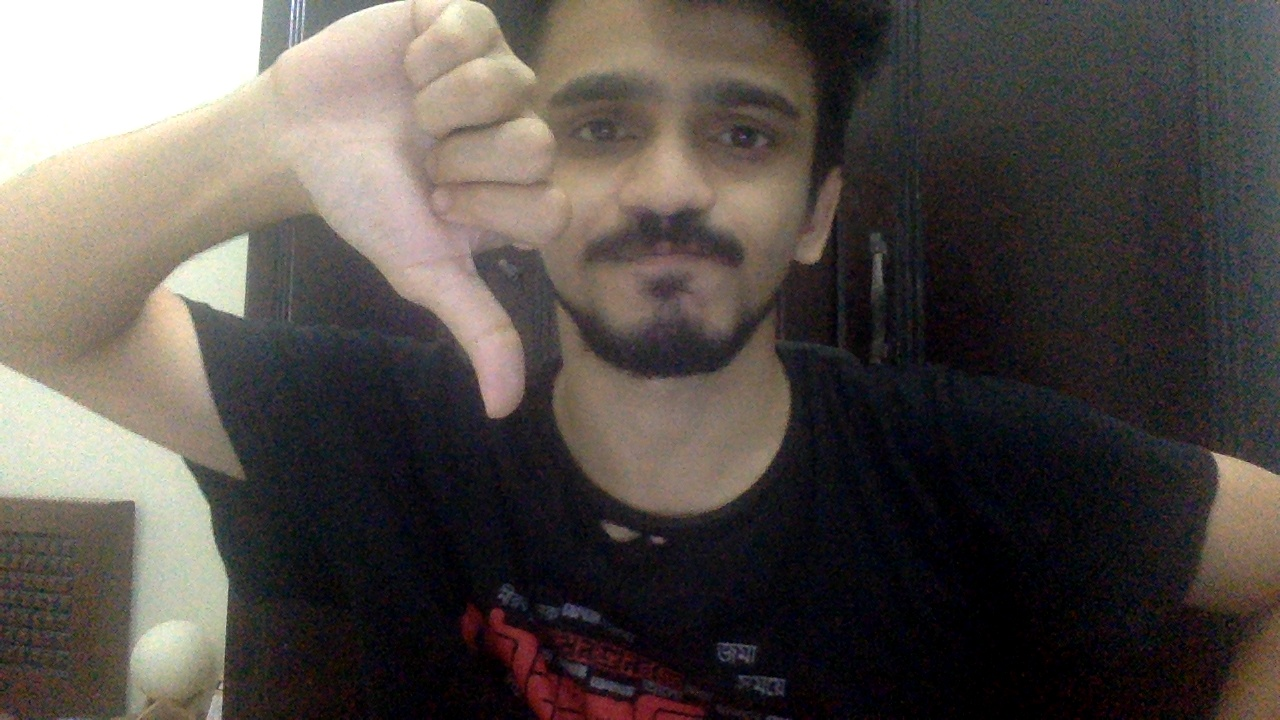bad: (262, 1, 567, 419)
